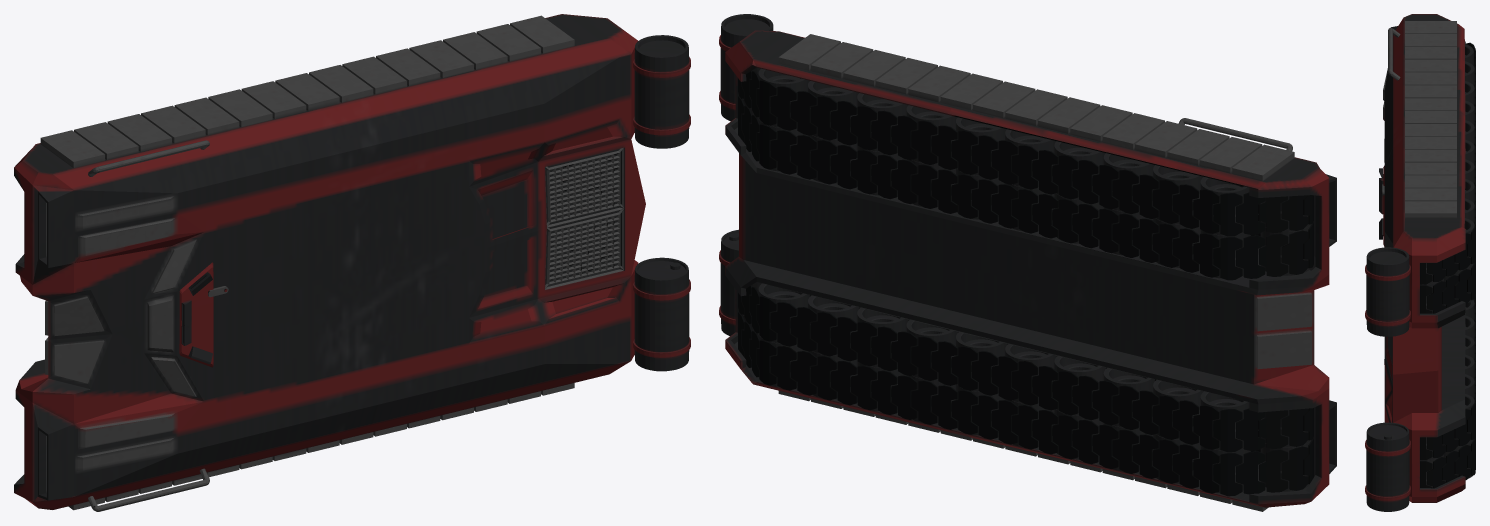
The model's file is Enemy_hull.glb.
The picture shows the model from 3 angles, left to right: view 1: azimuth 30°, elevation 25°; view 2: azimuth 150°, elevation 25°; view 3: azimuth 270°, elevation 25°; orthographic projection. The views are drawn at different scales.
Visible parts, largest first — view 1: Chassis.006; view 2: Chassis.006; view 3: Chassis.006.
Part boxes in pixels (x1,y1,x2,y2): Chassis.006: [14, 14, 690, 511]; Chassis.006: [719, 14, 1336, 511]; Chassis.006: [1365, 14, 1475, 511].
Size of the model in its own units: 0.8794 by 0.4565 by 0.1672.
Materials: 1 (1 with a texture image).
